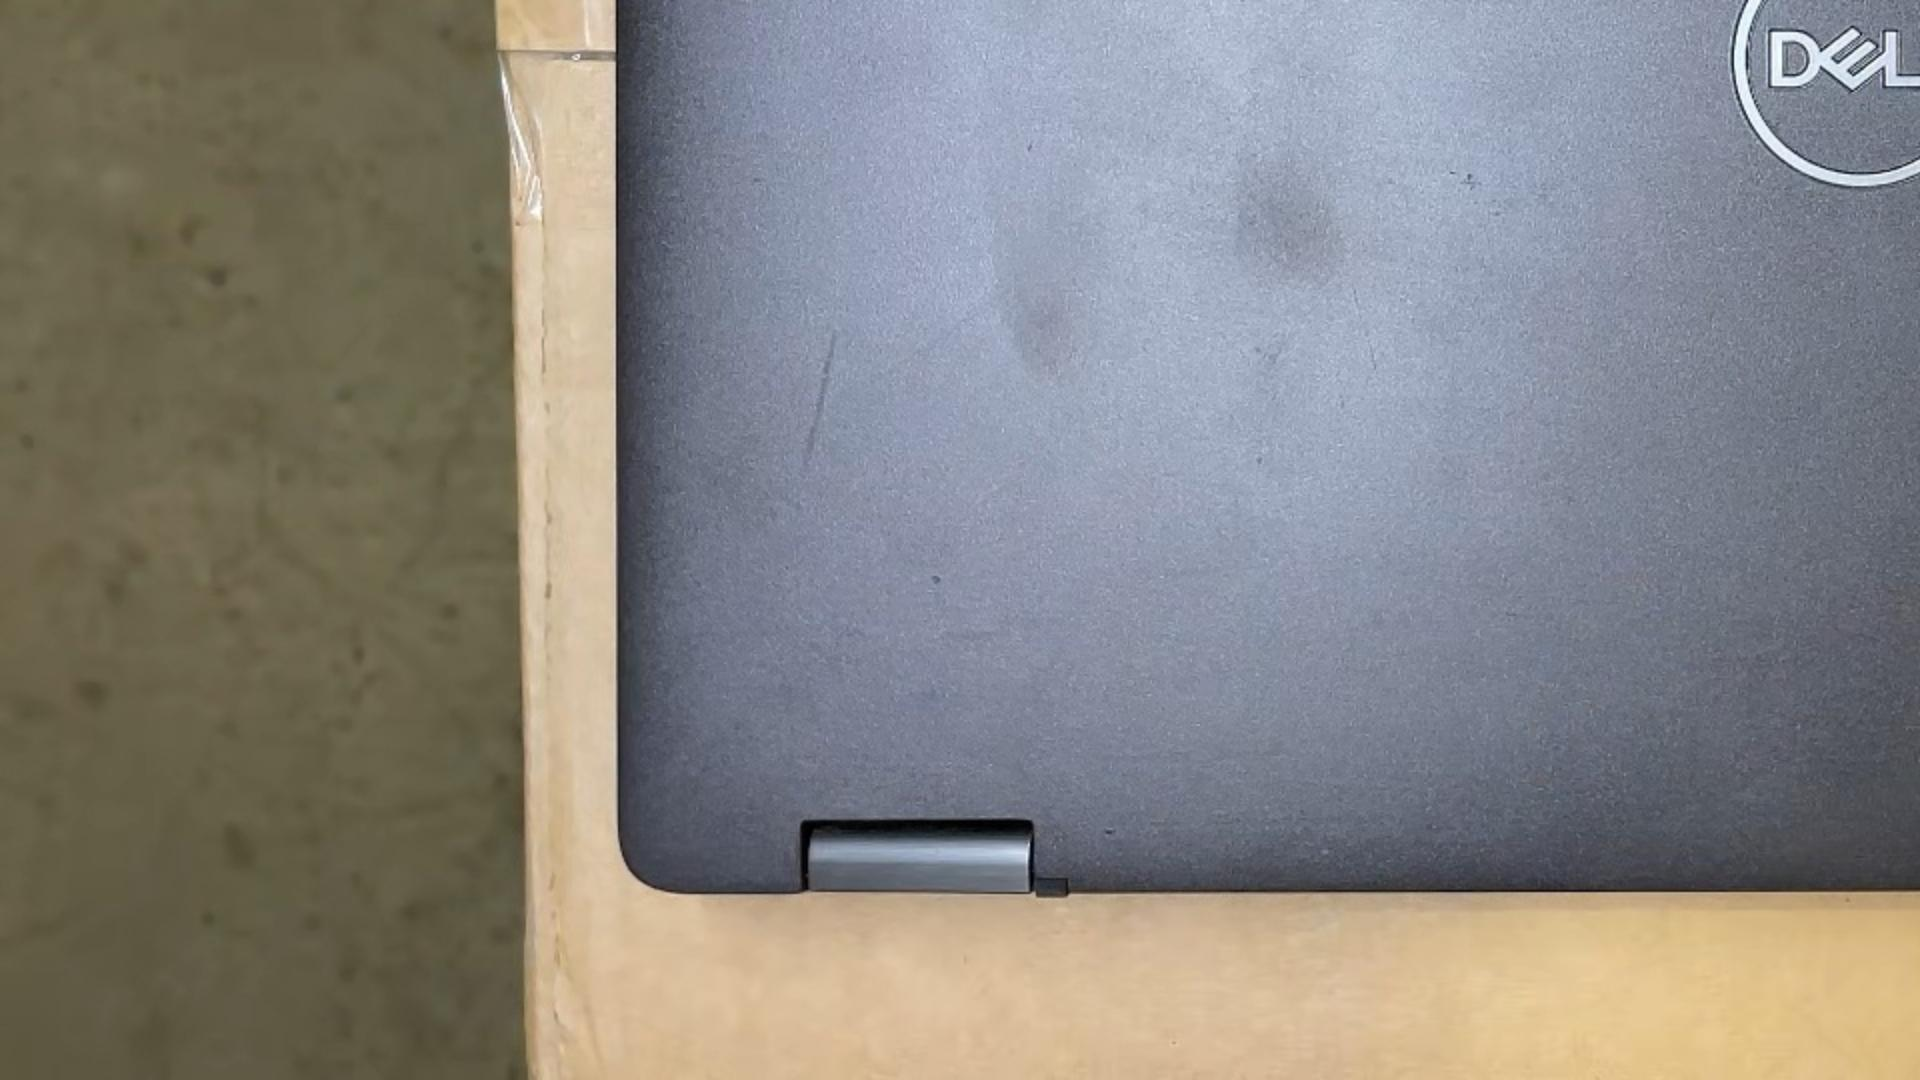chip: (927, 570, 945, 589), (1461, 171, 1480, 191), (1253, 455, 1265, 467)
scratches: (800, 328, 840, 464), (1350, 287, 1381, 372), (1026, 141, 1034, 154), (1449, 170, 1457, 175)
